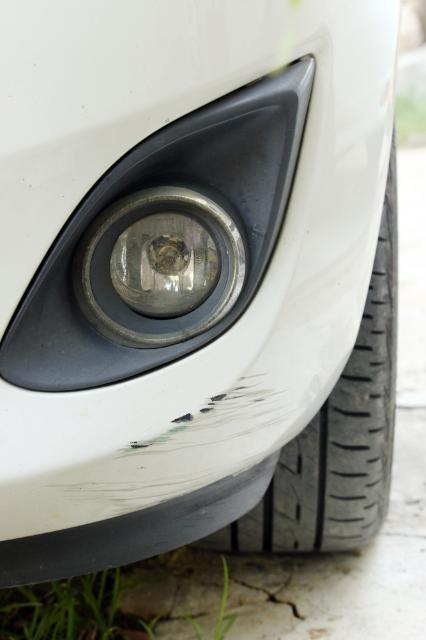scratch: (62, 365, 314, 511)
